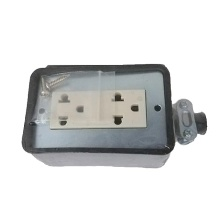three_eye_plug: (20, 57, 179, 174)
